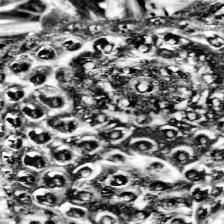Anthracnose Fruit Rot: (16, 49, 211, 224)
